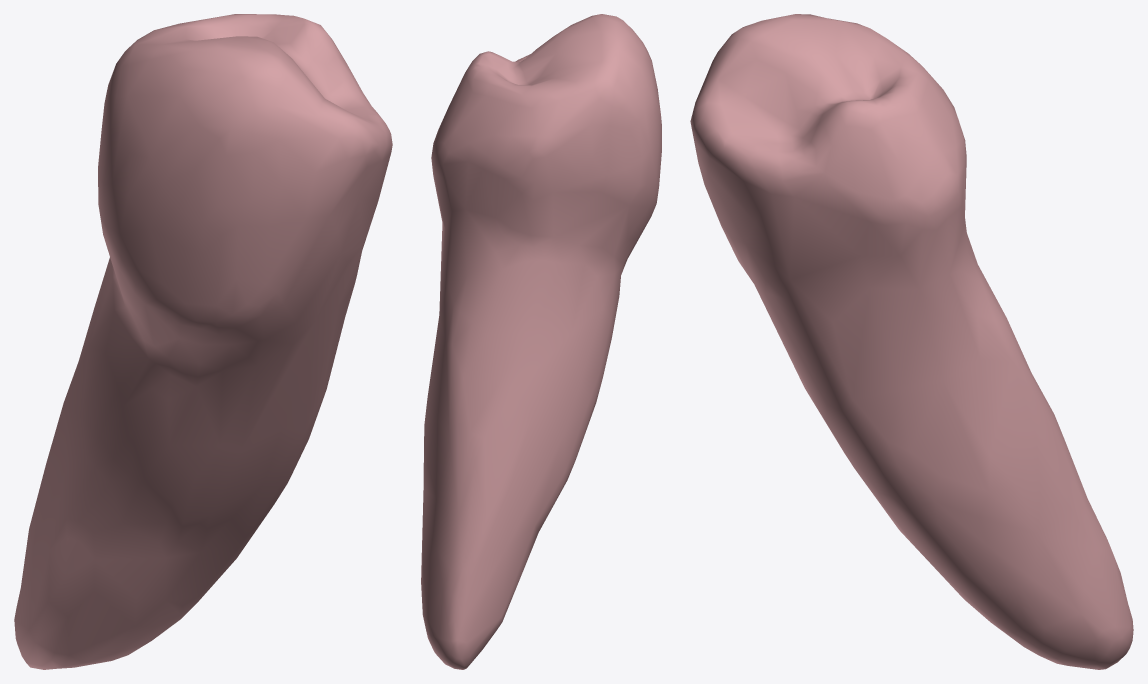
File: fma55694_fj1269.glb
3 views of the same model, side by side, from view 1: azimuth 30°, elevation 25°; view 2: azimuth 150°, elevation 25°; view 3: azimuth 270°, elevation 25° (orthographic). The views are drawn at different scales.
Visible parts, largest first — view 1: FMA55694_FJ1269; view 2: FMA55694_FJ1269; view 3: FMA55694_FJ1269.
Part boxes in pixels (left/top/right/bottom): FMA55694_FJ1269: left=14, top=14, right=392, bottom=669; FMA55694_FJ1269: left=421, top=14, right=661, bottom=669; FMA55694_FJ1269: left=690, top=14, right=1133, bottom=669.
Size of the model in its own units: 0.00795 by 0.0225 by 0.0141.
